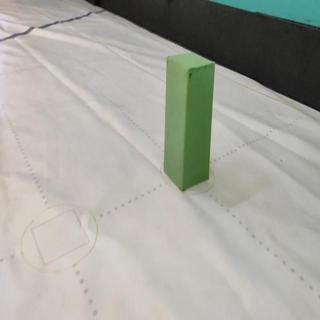greenbox: (161, 50, 215, 194)
